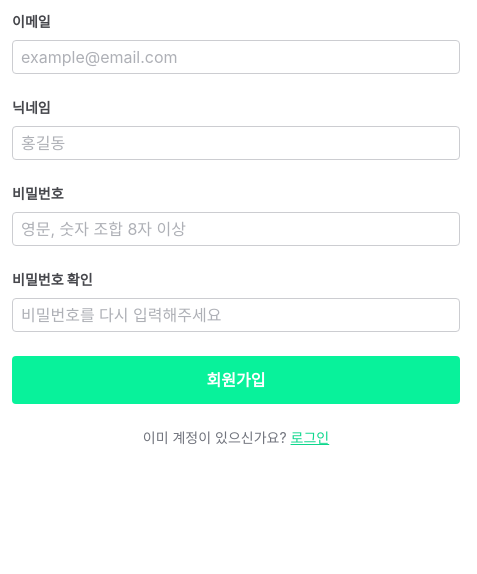
Test: SignupForm › shows validation errors for empty fields
Step 1. Click the button "회원가입" → (236,380), box left=12, top=356, right=460, bottom=404
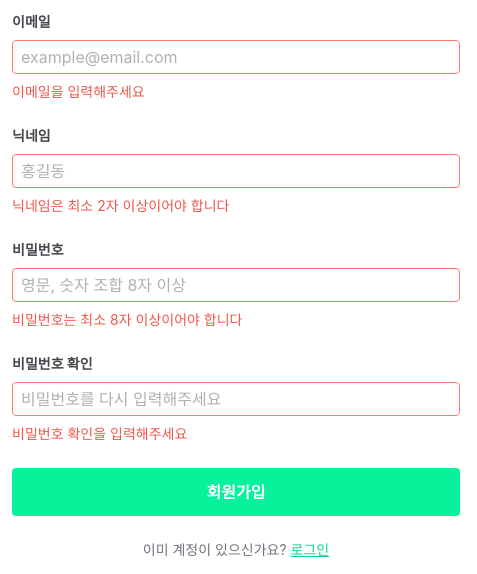
Check: the text "이메일을 입력해주세요" is shown, box left=12, top=83, right=145, bottom=100
